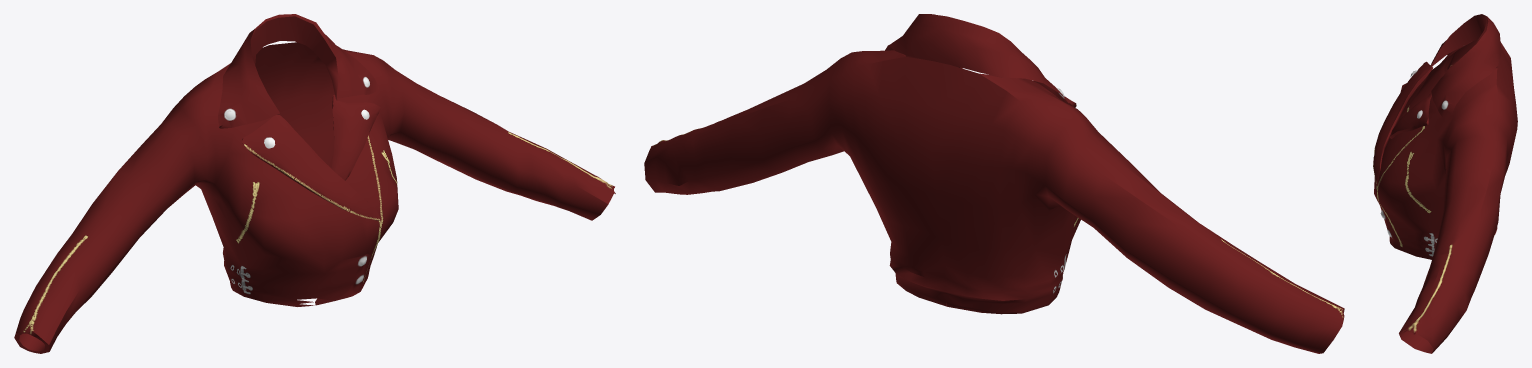
File: leather.glb
The picture shows the model from 3 angles, left to right: view 1: azimuth 30°, elevation 25°; view 2: azimuth 150°, elevation 25°; view 3: azimuth 270°, elevation 25°; orthographic projection. The views are drawn at different scales.
Visible parts, largest first — view 1: Object_2; view 2: Object_2; view 3: Object_2.
Part boxes in pixels (box(x1,y1,x2,y2)): Object_2: box(14, 14, 615, 353); Object_2: box(644, 14, 1344, 353); Object_2: box(1373, 14, 1517, 353).
Size of the model in its own units: 4.91 by 1.94 by 1.18.
1 material, 1 textured.
